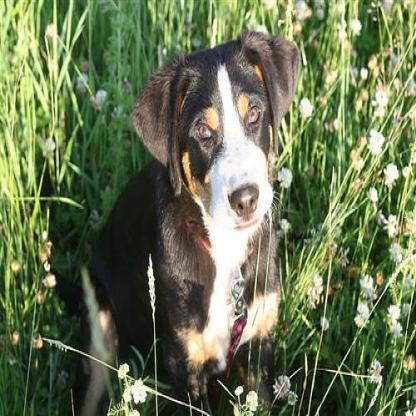Greater_Swiss_Mountain_dog: (47, 29, 300, 412)
